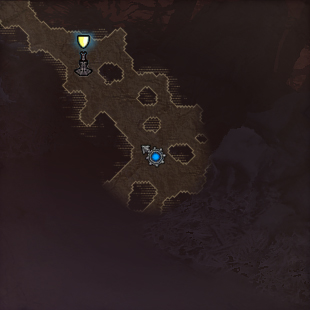ShieldPylon: (74, 33, 93, 78)
